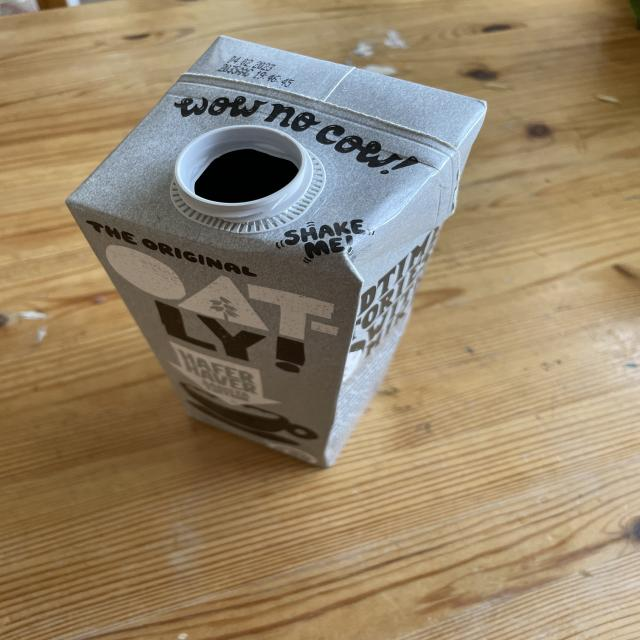non_white_jug: (73, 37, 487, 474)
